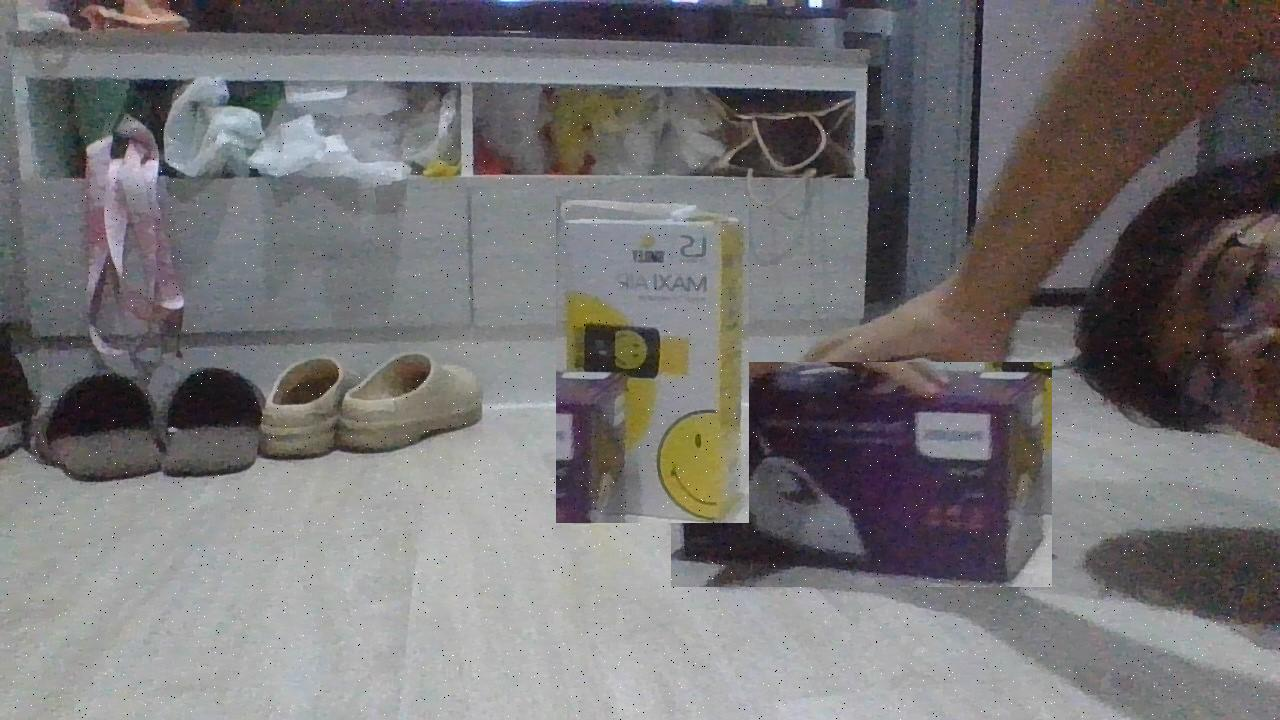Dryer: (556, 196, 749, 523)
IRON: (671, 362, 1052, 587)
